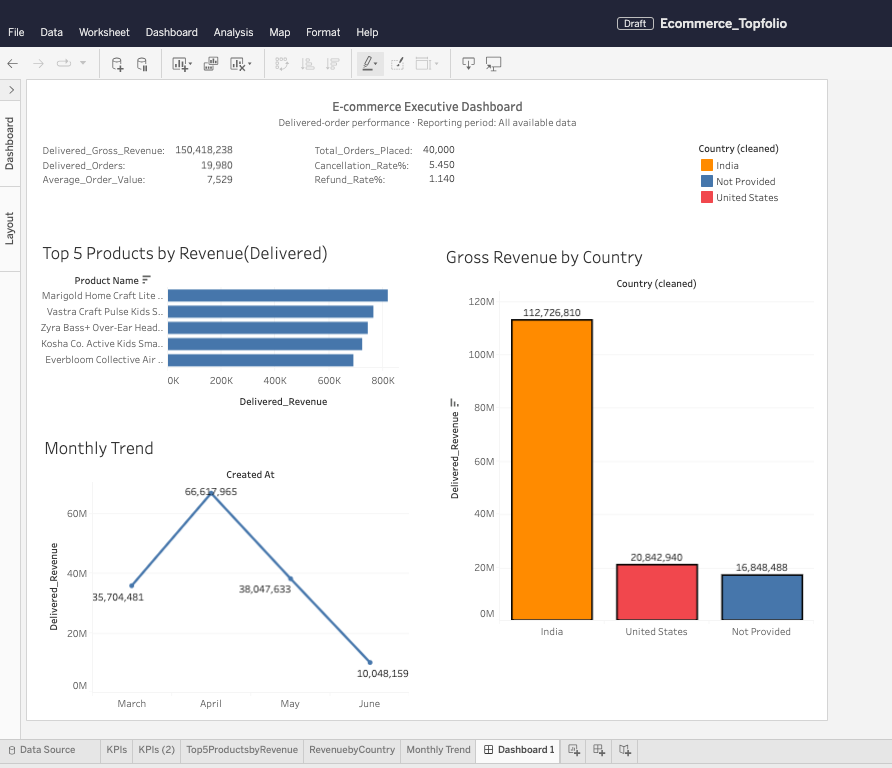

What the dashboard file says about the page in this screenshot:
{"tool":"tableau","page":{"name":"Dashboard 1","canvas":[1000,800],"ordinal":0},"visuals":[{"type":"text","box":[0,13,1002,58]},{"type":"text","box":[2,73,834,103]},{"type":"legend","title":"RevenuebyCountry","param":"[federated.0y33o921tzvtbq1gw2su61qtuy3o].[Country (group)]","box":[836,73,168,103]},{"type":"worksheet","title":"KPIs (2)","mark":"Automatic","box":[479,77,171,100]},{"type":"worksheet","title":"KPIs","mark":"Automatic","box":[182,78,169,93]},{"type":"text","box":[20,79,159,54]},{"type":"text","box":[360,79,124,54]},{"type":"worksheet","title":"Top5ProductsbyRevenue","mark":"Automatic","rows":["product_name"],"cols":["Calculation_0001088554221600"],"box":[16,196,450,251]},{"type":"worksheet","title":"RevenuebyCountry","mark":"Automatic","rows":["Calculation_0001088554221600"],"box":[520,201,465,514]},{"type":"worksheet","title":"Monthly Trend","mark":"Automatic","rows":["Calculation_0001088554221600"],"cols":["created_at"],"box":[14,436,468,355]}]}

Visuals, with their boxes on the page's 1000x800 design canvas (x1, y1, x2, y2). These are canvas units, not pixel positions in the 892x768 screenshot, which may show the page scaled, cropped or inside an application window:
text: <region>0, 13, 1002, 71</region>
text: <region>2, 73, 836, 176</region>
"RevenuebyCountry" legend: <region>836, 73, 1004, 176</region>
"KPIs (2)" worksheet: <region>479, 77, 650, 177</region>
"KPIs" worksheet: <region>182, 78, 351, 171</region>
text: <region>20, 79, 179, 133</region>
text: <region>360, 79, 484, 133</region>
"Top5ProductsbyRevenue" worksheet: <region>16, 196, 466, 447</region>
"RevenuebyCountry" worksheet: <region>520, 201, 985, 715</region>
"Monthly Trend" worksheet: <region>14, 436, 482, 791</region>
